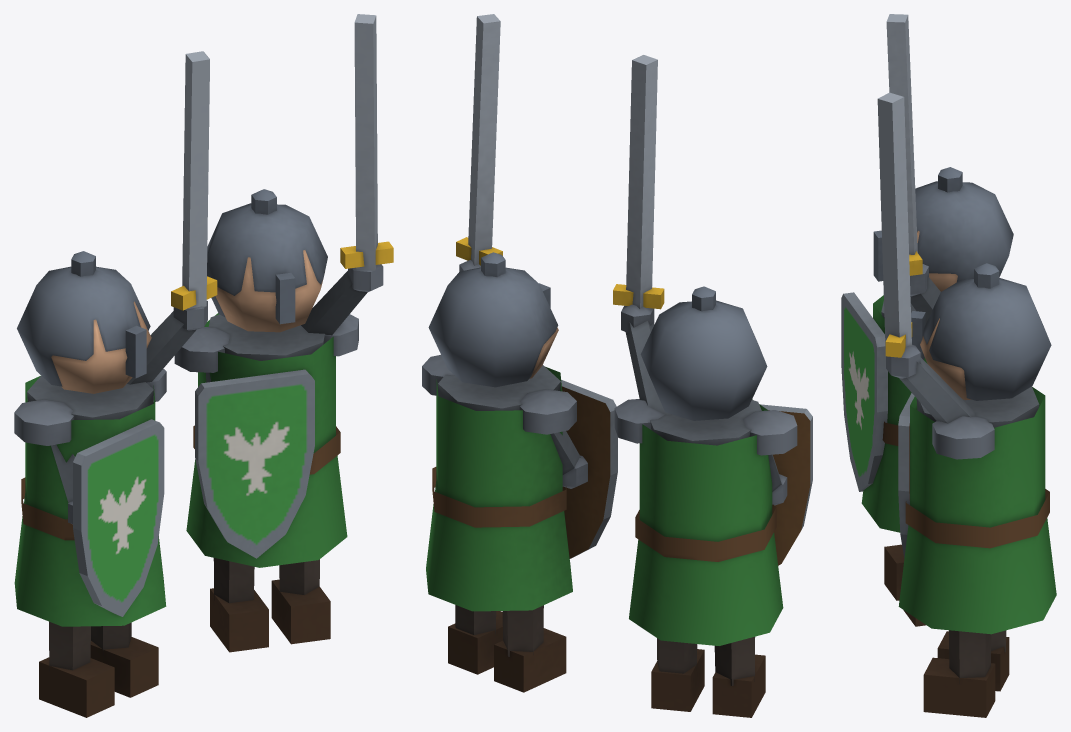
Rendered from sentry_dl3_green.glb.
The picture shows the model from 3 angles, left to right: view 1: azimuth 30°, elevation 25°; view 2: azimuth 150°, elevation 25°; view 3: azimuth 270°, elevation 25°; orthographic projection. The views are drawn at different scales.
Parts seen in each view (by area): view 1: sentry_dl3_green; view 2: sentry_dl3_green; view 3: sentry_dl3_green.
Part boxes in pixels (x1=…): sentry_dl3_green: x1=14, y1=14, x2=393, y2=717; sentry_dl3_green: x1=422, y1=14, x2=812, y2=717; sentry_dl3_green: x1=841, y1=14, x2=1056, y2=717.
Bounding box in the file's own units: 0.3402 × 0.5703 × 0.1787.
1 material, 1 textured.
